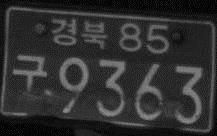3: (95, 57, 126, 118), (172, 64, 203, 125)
5: (145, 22, 170, 55)
6: (133, 62, 165, 122)
8: (118, 22, 142, 53)
9: (58, 56, 90, 115)
경북_O: (49, 17, 107, 50)
구: (11, 52, 48, 94)
